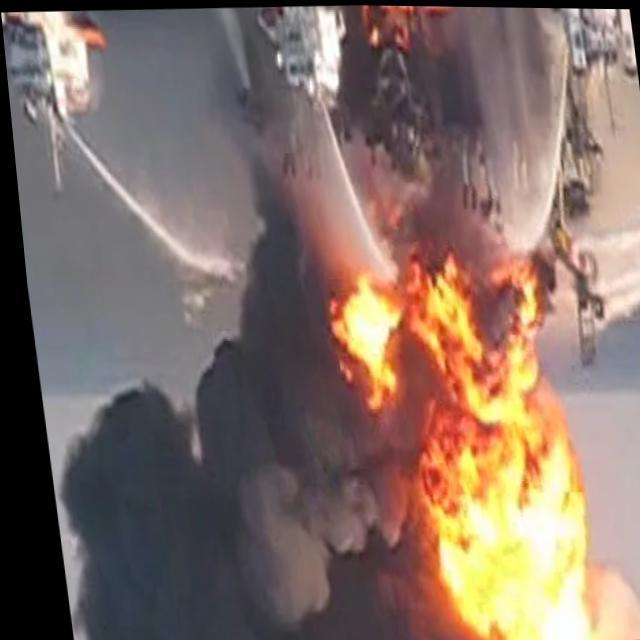fire: (332, 242, 638, 640)
